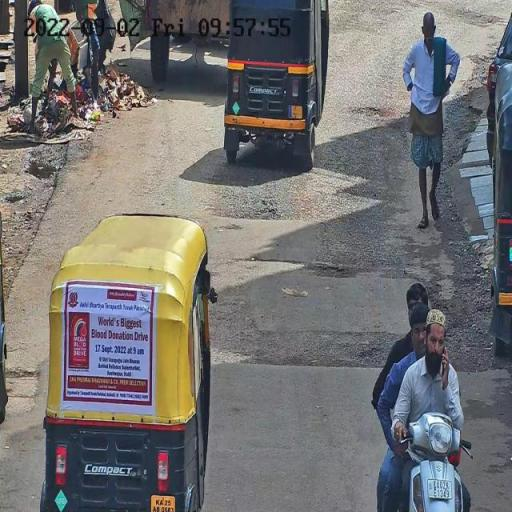numberplate: (427, 478, 454, 501)
using mobile: (440, 338, 452, 392)
